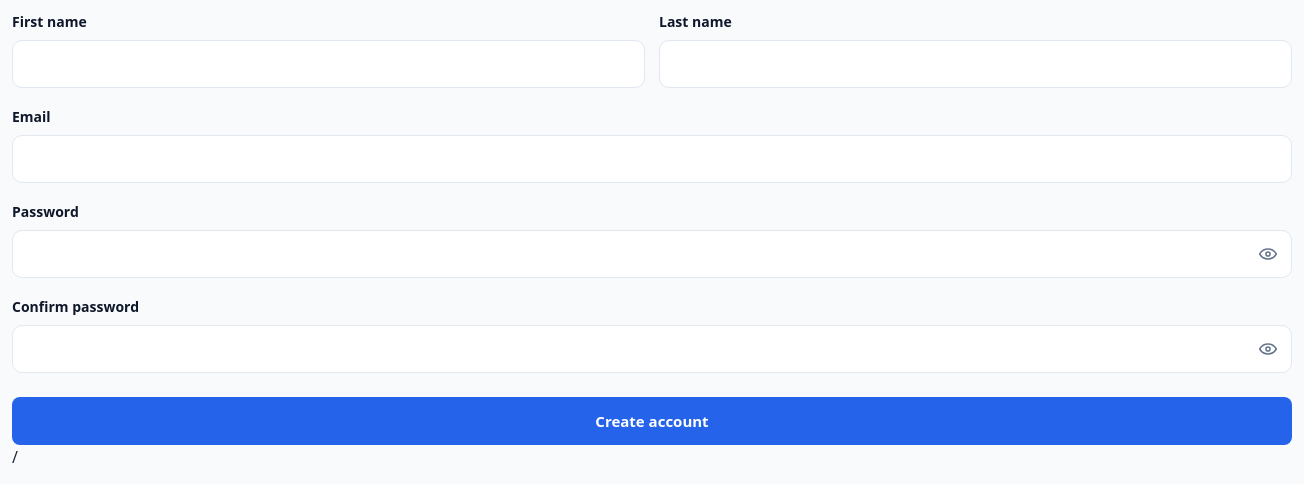
Test: RegisterForm › submits without the password confirmation and navigates to /login
This screenshot has width=1304, height=484.
Type "Arash" into the field labelled "First name" at coordinates (328, 64), box x1=12 y1=40 x2=645 y2=88
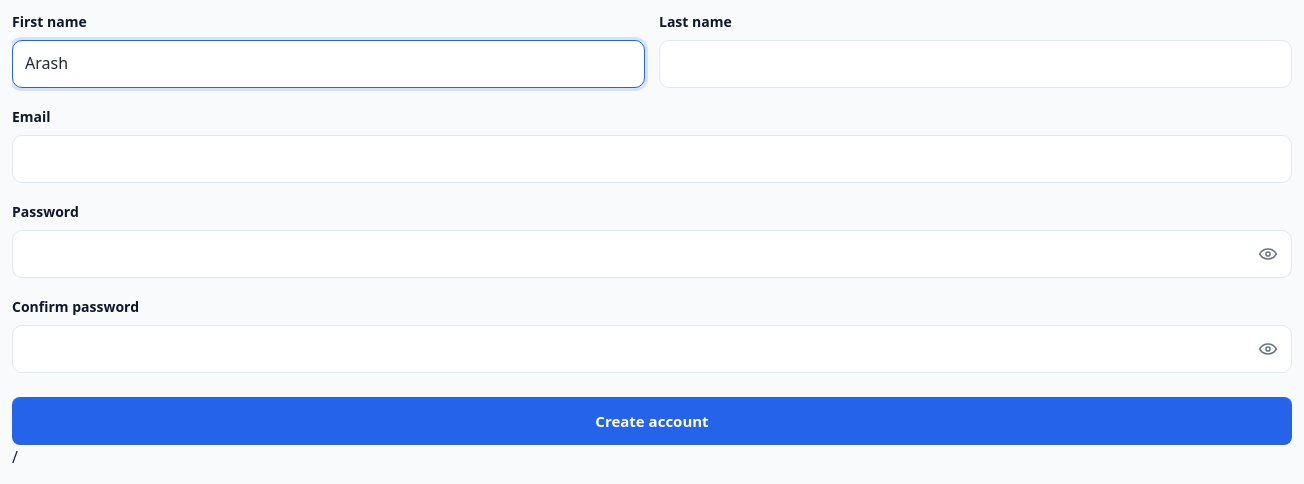
Type "Aghapour" into the field labelled "Last name" at coordinates (976, 64), box x1=659 y1=40 x2=1292 y2=88
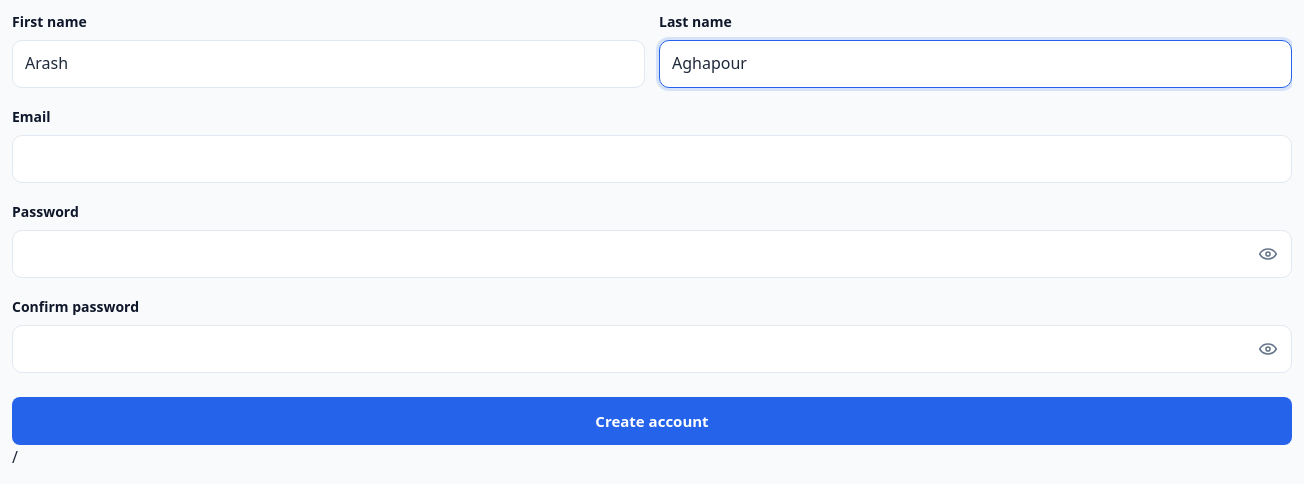
Type "user@example.com" into the field labelled "Email" at coordinates (652, 159), box x1=12 y1=135 x2=1292 y2=183
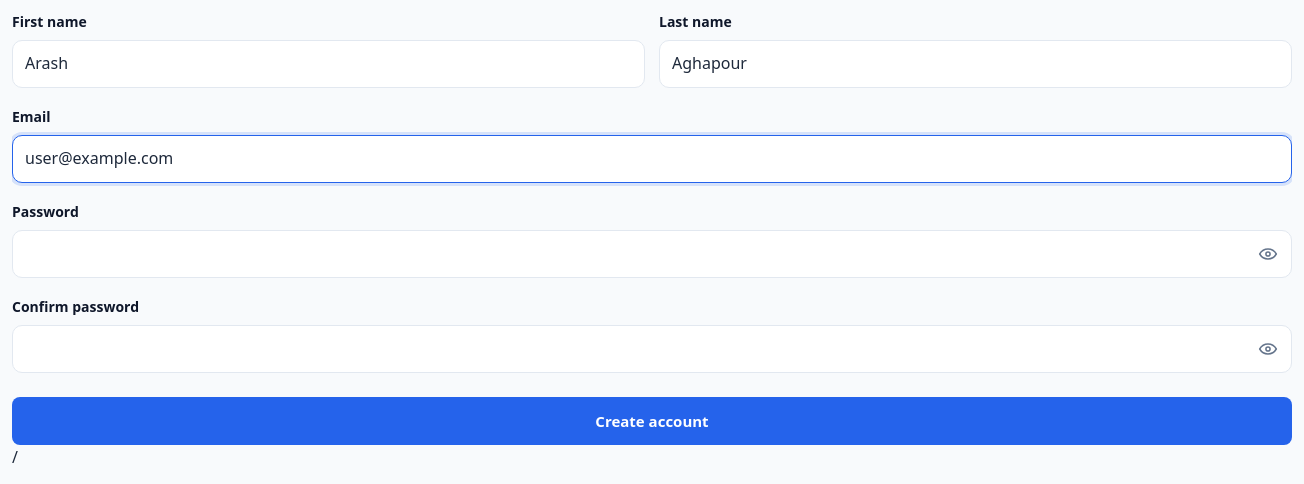
Type "password123" into the password field labelled "Password" at coordinates (652, 254), box x1=12 y1=230 x2=1292 y2=278
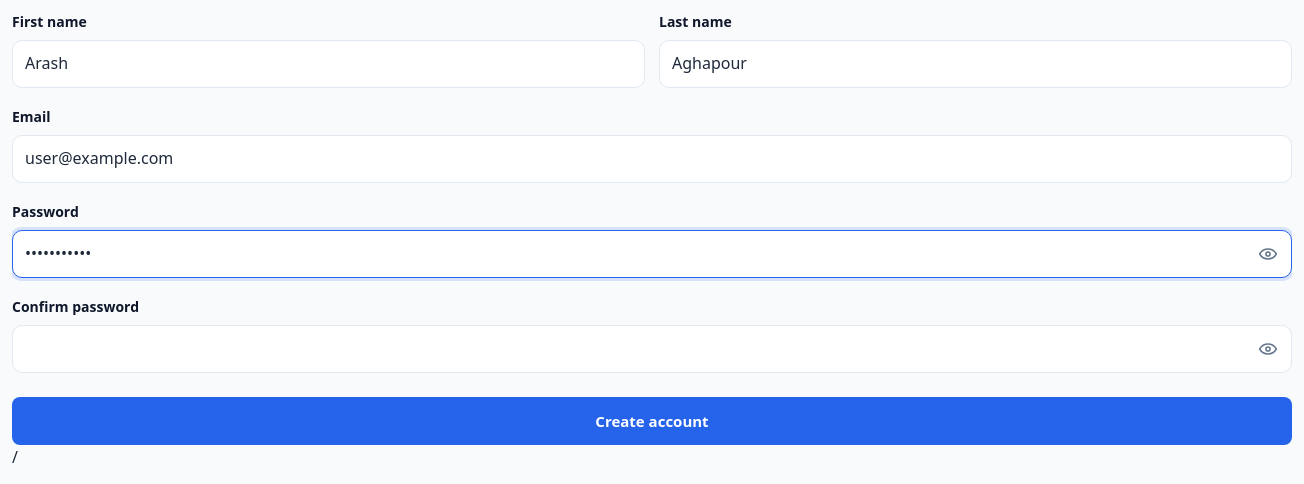
Type "password123" into the password field labelled "Confirm password" at coordinates (652, 349), box x1=12 y1=325 x2=1292 y2=373
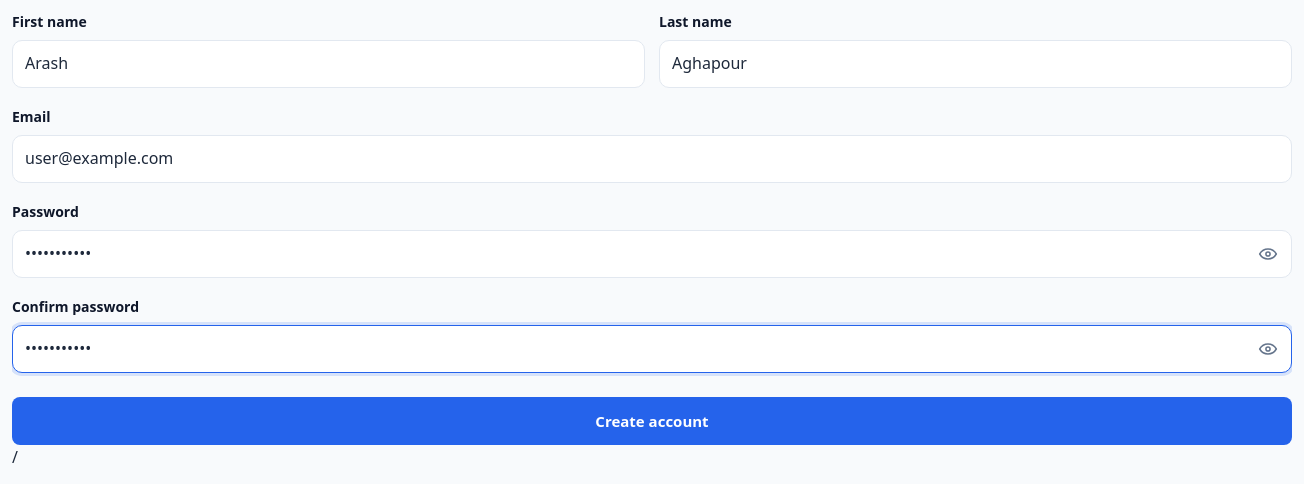
Click the button "Create account" at coordinates (652, 421), box x1=12 y1=397 x2=1292 y2=445
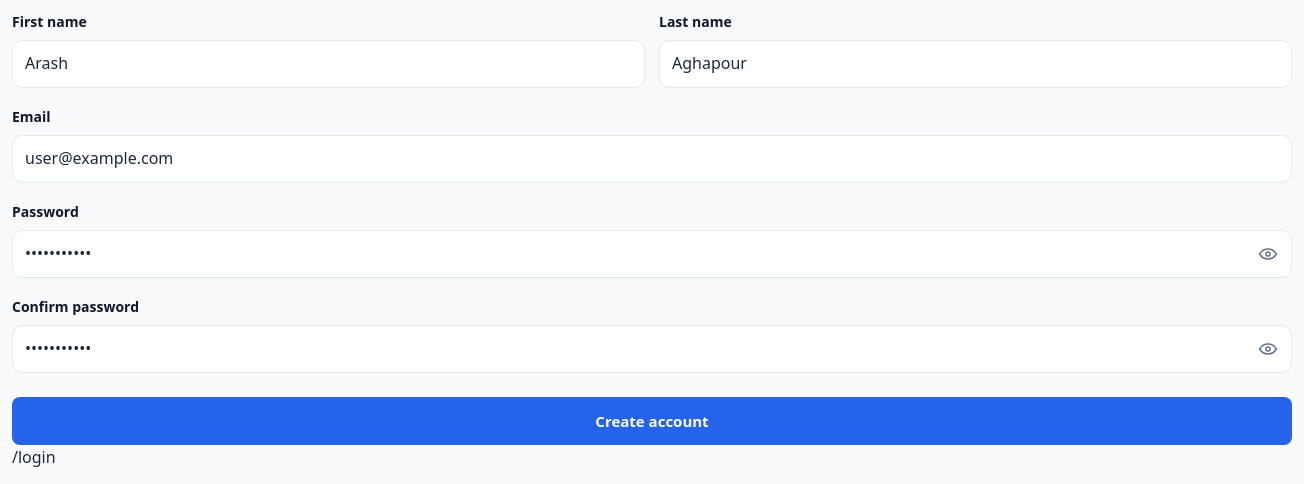
Check: the text with test id "location" reads "/login", box x1=12 y1=446 x2=56 y2=468
